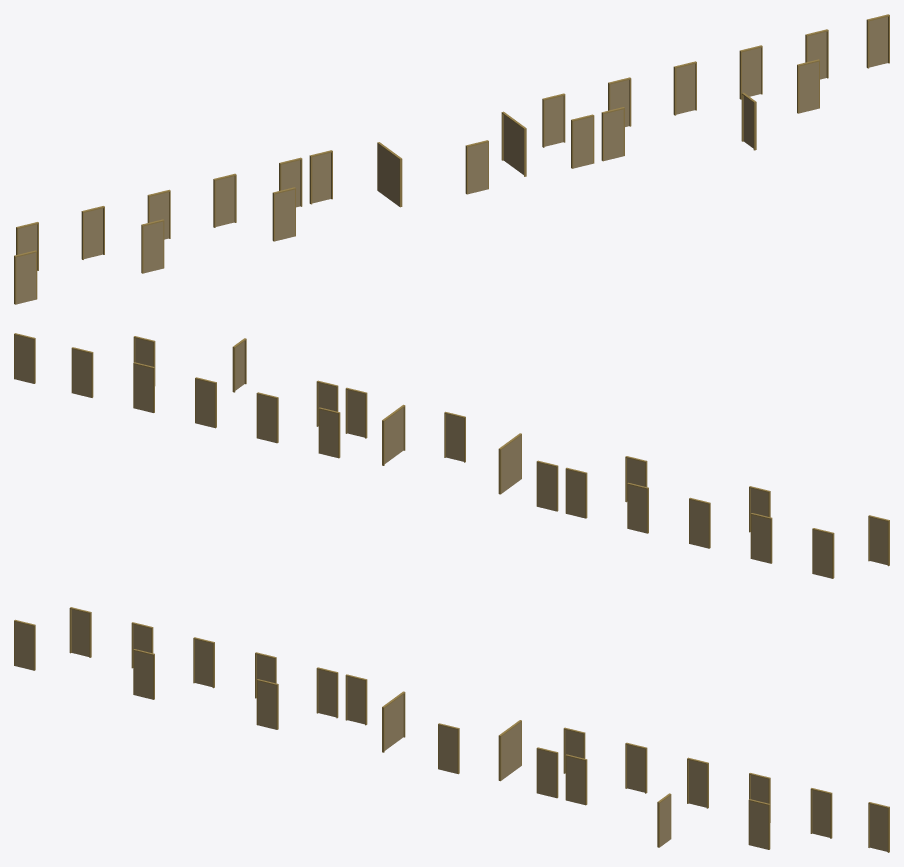
Rendered from 231110AC11-Institute-Var-2-IFC_1_Obergeschoss_IfcDoor.dae.
The picture shows the model from 3 angles, top to bottom: view 1: azimuth 30°, elevation 25°; view 2: azimuth 150°, elevation 25°; view 3: azimuth 330°, elevation 25°; orthographic projection. The views are drawn at different scales.
Visible parts, largest first — view 1: 1p4YfqvYLCyfRRiNruiahD, 1MlsdMSb17ygNfEs7N22qC, 0aFvTq1m96zgWbjq4TXV_5, 1gw9pvArXFYfZkbYdrwJwh, 0vTIWG60z84eKitb_eWAIR, 08uaDJHLH3FAZ6Hg9FwzkG, 1d9QvK4Qv1Iem3fiUhniQB, 3qz8vRMKXCHubRHdl$maGl, 32UdM49pfAMxiX5WyXhCuy, 00RjztLorCQgcGEHv7fY3g, 2ezLa6k3r22f7kZrwjKNLO, 17HzXMa29CgeqdGTriCwwh (+10 smaller); view 2: 1p4YfqvYLCyfRRiNruiahD, 1MlsdMSb17ygNfEs7N22qC, 35jd8lu1fDJAuZoKl4ldDk, 32UdM49pfAMxiX5WyXhCuy, 2dmNSROS54DQzD5NyEFXm$, 37NUOXsmX3z9p4Kk0VJikq, 17HzXMa29CgeqdGTriCwwh, 3ZJxNn9Nz6HQakewV2F393, 2VGdy0IID6LxPfFQdDE_rz, 1gw9pvArXFYfZkbYdrwJwh, 2sSHD6n39BZQnSaHjLYpnc, 2tu8_KoLfDpho5M9F1jtqL (+10 smaller); view 3: 1MlsdMSb17ygNfEs7N22qC, 1p4YfqvYLCyfRRiNruiahD, 08uaDJHLH3FAZ6Hg9FwzkG, 1gw9pvArXFYfZkbYdrwJwh, 1BWbpTElb4dAcW2J6oyRrZ, 1d9QvK4Qv1Iem3fiUhniQB, 35jd8lu1fDJAuZoKl4ldDk, 37NUOXsmX3z9p4Kk0VJikq, 17HzXMa29CgeqdGTriCwwh, 2dmNSROS54DQzD5NyEFXm$, 3ZJxNn9Nz6HQakewV2F393, 3qz8vRMKXCHubRHdl$maGl (+10 smaller).
Part boxes in pixels (bbox=[...]): 1p4YfqvYLCyfRRiNruiahD: bbox=[377, 142, 402, 207]; 1MlsdMSb17ygNfEs7N22qC: bbox=[501, 111, 526, 176]; 0aFvTq1m96zgWbjq4TXV_5: bbox=[465, 140, 488, 194]; 1gw9pvArXFYfZkbYdrwJwh: bbox=[571, 114, 594, 168]; 0vTIWG60z84eKitb_eWAIR: bbox=[14, 250, 37, 304]; 08uaDJHLH3FAZ6Hg9FwzkG: bbox=[272, 187, 295, 241]; 1d9QvK4Qv1Iem3fiUhniQB: bbox=[601, 107, 624, 161]; 3qz8vRMKXCHubRHdl$maGl: bbox=[141, 219, 164, 273]; 32UdM49pfAMxiX5WyXhCuy: bbox=[542, 93, 565, 147]; 00RjztLorCQgcGEHv7fY3g: bbox=[673, 61, 696, 115]; 2ezLa6k3r22f7kZrwjKNLO: bbox=[213, 173, 236, 227]; 17HzXMa29CgeqdGTriCwwh: bbox=[309, 150, 332, 204]; 1p4YfqvYLCyfRRiNruiahD: bbox=[498, 433, 521, 494]; 1MlsdMSb17ygNfEs7N22qC: bbox=[382, 404, 405, 465]; 35jd8lu1fDJAuZoKl4ldDk: bbox=[256, 392, 278, 443]; 32UdM49pfAMxiX5WyXhCuy: bbox=[318, 407, 340, 458]; 2dmNSROS54DQzD5NyEFXm$: bbox=[812, 528, 834, 578]; 37NUOXsmX3z9p4Kk0VJikq: bbox=[565, 467, 587, 518]; 17HzXMa29CgeqdGTriCwwh: bbox=[536, 460, 558, 511]; 3ZJxNn9Nz6HQakewV2F393: bbox=[71, 347, 93, 397]; 2VGdy0IID6LxPfFQdDE_rz: bbox=[750, 513, 772, 563]; 1gw9pvArXFYfZkbYdrwJwh: bbox=[345, 387, 367, 438]; 2sSHD6n39BZQnSaHjLYpnc: bbox=[14, 333, 35, 383]; 2tu8_KoLfDpho5M9F1jtqL: bbox=[133, 362, 154, 412]; 1MlsdMSb17ygNfEs7N22qC: bbox=[498, 720, 521, 781]; 1p4YfqvYLCyfRRiNruiahD: bbox=[382, 691, 405, 752]; 08uaDJHLH3FAZ6Hg9FwzkG: bbox=[256, 679, 278, 729]; 1gw9pvArXFYfZkbYdrwJwh: bbox=[536, 747, 558, 798]; 1BWbpTElb4dAcW2J6oyRrZ: bbox=[748, 799, 770, 849]; 1d9QvK4Qv1Iem3fiUhniQB: bbox=[565, 754, 587, 805]; 35jd8lu1fDJAuZoKl4ldDk: bbox=[625, 742, 647, 793]; 37NUOXsmX3z9p4Kk0VJikq: bbox=[316, 667, 338, 718]; 17HzXMa29CgeqdGTriCwwh: bbox=[345, 674, 367, 725]; 2dmNSROS54DQzD5NyEFXm$: bbox=[69, 607, 91, 657]; 3ZJxNn9Nz6HQakewV2F393: bbox=[810, 788, 832, 838]; 3qz8vRMKXCHubRHdl$maGl: bbox=[133, 649, 154, 699].
Bounding box in the file's own units: 41.2 × 4.49 × 2.1.
